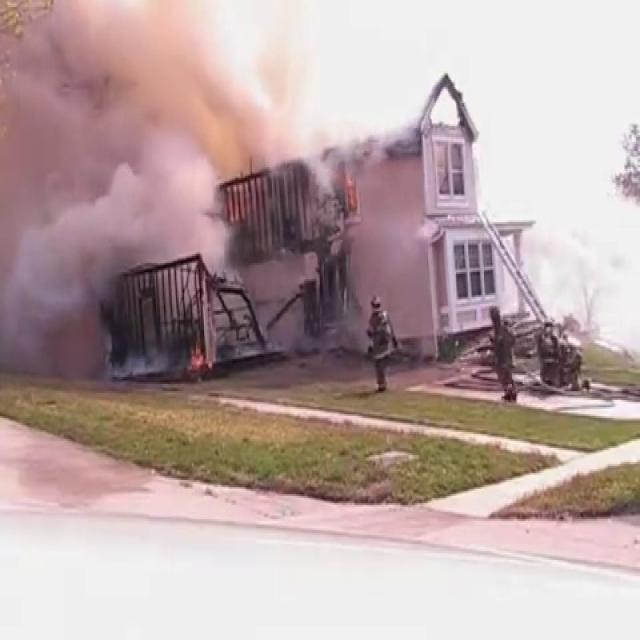Smoke: (0, 0, 321, 366)
